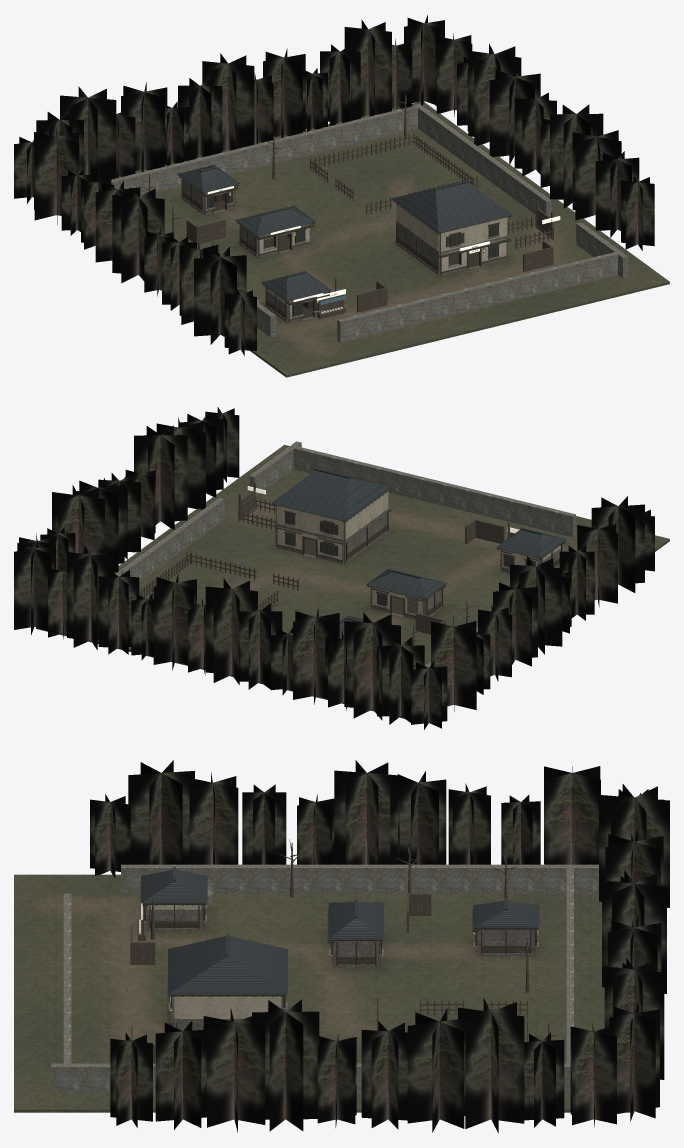
The model's file is farm.glb.
The picture shows the model from 3 angles, top to bottom: view 1: azimuth 30°, elevation 25°; view 2: azimuth 150°, elevation 25°; view 3: azimuth 270°, elevation 25°; orthographic projection. The views are drawn at different scales.
Visible parts, largest first — view 1: Ground, Farm boundary, PinePatch_-1_2, StaticArchitecture, PinePatch_1_2, PinePatch_2_0, PinePatch_-2_2, PinePatch_-3_1, PinePatch_0_2, PinePatch_2_-1, PinePatch_-3_-2, PinePatch_-3_0 (+15 smaller); view 2: Ground, PinePatch_-1_2, Farm boundary, PinePatch_-2_2, StaticArchitecture, PinePatch_1_2, PinePatch_-3_1, PinePatch_0_2, PinePatch_2_-1, PinePatch_-3_0, PinePatch_-3_-1, PinePatch_2_0 (+10 smaller); view 3: Ground, Farm boundary, PinePatch_2_0, PinePatch_2_-1, PinePatch_-3_1, PinePatch_2_1, PinePatch_-3_0, PinePatch_-3_-1, PinePatch_2_2, PinePatch_-3_-2, PinePatch_2_-2, StaticArchitecture (+11 smaller).
Boxes of the visible parts, left/top/right/bottom form: Ground: left=116, top=101, right=669, bottom=377; Farm boundary: left=79, top=104, right=628, bottom=342; PinePatch_-1_2: left=121, top=53, right=254, bottom=171; StaticArchitecture: left=181, top=179, right=511, bottom=323; PinePatch_1_2: left=320, top=19, right=412, bottom=125; PinePatch_2_0: left=489, top=66, right=556, bottom=187; PinePatch_-2_2: left=36, top=86, right=135, bottom=182; PinePatch_-3_1: left=34, top=129, right=114, bottom=249; PinePatch_0_2: left=254, top=48, right=327, bottom=143; PinePatch_2_-1: left=550, top=104, right=621, bottom=220; PinePatch_-3_-2: left=194, top=247, right=256, bottom=355; PinePatch_-3_0: left=95, top=181, right=164, bottom=283; Ground: left=36, top=445, right=669, bottom=718; PinePatch_-1_2: left=205, top=578, right=339, bottom=704; Farm boundary: left=115, top=441, right=575, bottom=667; PinePatch_-2_2: left=325, top=612, right=424, bottom=724; StaticArchitecture: left=275, top=491, right=565, bottom=619; PinePatch_1_2: left=48, top=545, right=139, bottom=654; PinePatch_-3_1: left=431, top=605, right=511, bottom=711; PinePatch_0_2: left=131, top=574, right=205, bottom=675; PinePatch_2_-1: left=134, top=417, right=205, bottom=529; PinePatch_-3_0: left=493, top=556, right=562, bottom=666; PinePatch_-3_-1: left=559, top=520, right=617, bottom=633; PinePatch_2_0: left=76, top=467, right=155, bottom=572; Ground: left=14, top=874, right=634, bottom=1112; Farm boundary: left=51, top=864, right=598, bottom=1092; PinePatch_2_0: left=317, top=1008, right=465, bottom=1132; PinePatch_2_-1: left=203, top=999, right=319, bottom=1132; PinePatch_-3_1: left=448, top=766, right=600, bottom=864; PinePatch_2_1: left=458, top=998, right=564, bottom=1133; PinePatch_-3_0: left=334, top=760, right=446, bottom=864; PinePatch_-3_-1: left=189, top=772, right=334, bottom=864; PinePatch_2_2: left=570, top=1003, right=659, bottom=1127; PinePatch_-3_-2: left=90, top=760, right=194, bottom=878; PinePatch_2_-2: left=110, top=1020, right=208, bottom=1129; StaticArchitecture: left=140, top=881, right=538, bottom=1030.
Size of the model in its own units: 61.22 by 11.31 by 61.32.
Materials: 20 (10 with a texture image).
